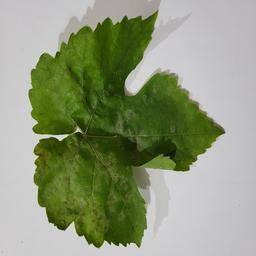Powdery-Mildew: (116, 106, 153, 152), (88, 151, 124, 188), (77, 202, 109, 242), (56, 89, 93, 122), (57, 161, 86, 199), (154, 82, 170, 98)
